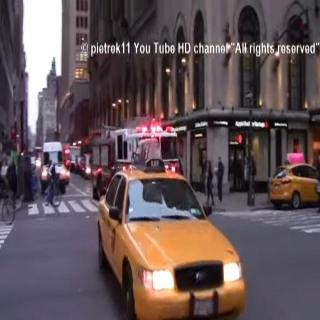Fire_truck: (90, 116, 182, 200)
